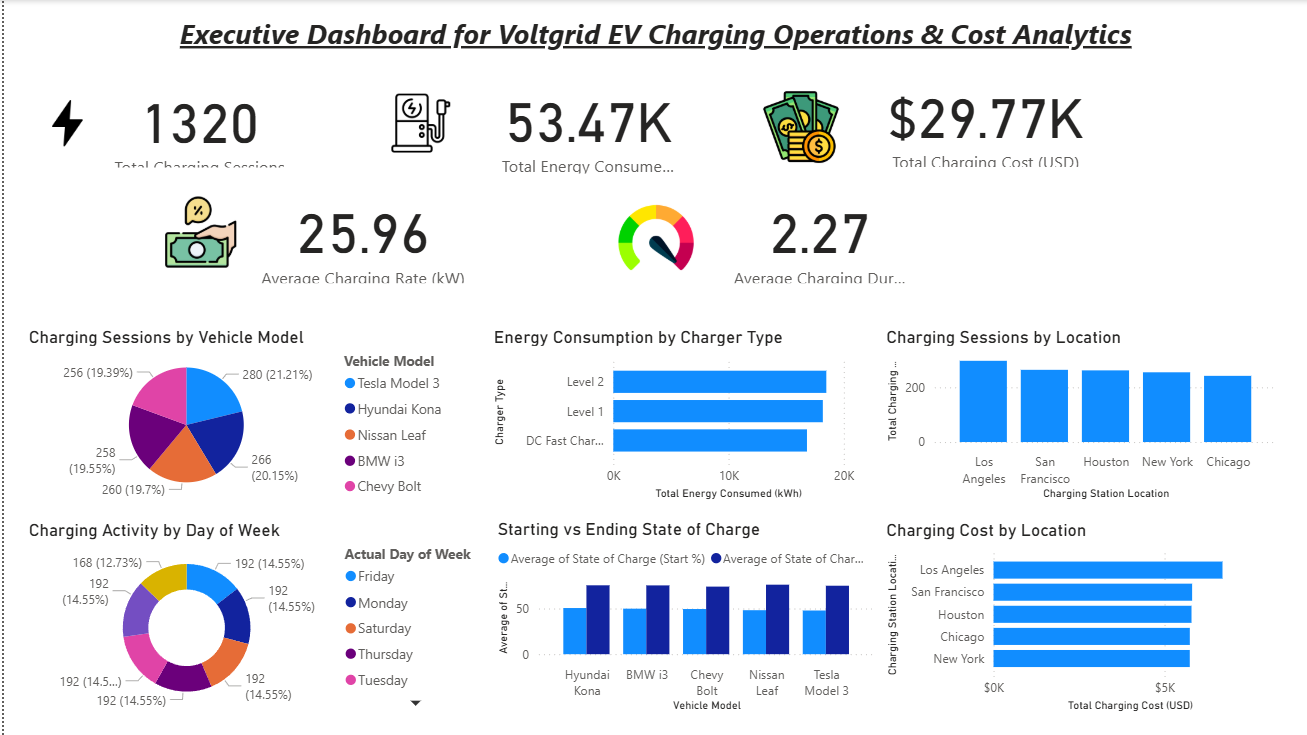

The dashboard page shown, as its layout file describes it:
{"tool":"powerbi","page":{"name":"Executive Dashboard","canvas":[1280,720],"ordinal":0},"visuals":[{"type":"textbox","box":[9.6,9.6,1255.6,53.5],"z":0},{"type":"card","fields":{"Values":["voltgrid_ev_charging_cleaned.Total Charging Sessions"]},"box":[94.7,81,194.9,87.8],"z":1000},{"type":"card","fields":{"Values":["voltgrid_ev_charging_cleaned.Total Energy Consumed (kWh)"]},"box":[477.5,72.7,186.6,102.9],"z":2000},{"type":"card","fields":{"Values":["voltgrid_ev_charging_cleaned.Total Charging Cost (USD)"]},"box":[859,72.7,204.5,96.1],"z":3000},{"type":"card","fields":{"Values":["voltgrid_ev_charging_cleaned.Average Charging Duration (Hours)"]},"box":[705.3,183.9,185.2,98.8],"z":4000},{"type":"card","fields":{"Values":["voltgrid_ev_charging_cleaned.Average Charging Rate (kW)"]},"box":[245.6,183.9,211.3,98.8],"z":5000},{"type":"pieChart","title":"Charging Sessions by Vehicle Model","fields":{"Category":["voltgrid_ev_charging_cleaned.Vehicle Model"],"Y":["voltgrid_ev_charging_cleaned.Total Charging Sessions"]},"box":[19.2,319.7,424,174.3],"z":6000},{"type":"clusteredBarChart","title":"Energy Consumption by Charger Type","fields":{"Category":["voltgrid_ev_charging_cleaned.Charger Type"],"Y":["voltgrid_ev_charging_cleaned.Total Energy Consumed (kWh)"]},"box":[474.8,319.7,362.3,174.3],"z":7000},{"type":"clusteredColumnChart","title":"Charging Sessions by Location","fields":{"Category":["voltgrid_ev_charging_cleaned.Charging Station Location"],"Y":["voltgrid_ev_charging_cleaned.Total Charging Sessions"]},"box":[859,319.7,392.5,174.3],"z":8000},{"type":"donutChart","title":"Charging Activity by Day of Week","fields":{"Category":["voltgrid_ev_charging_cleaned.Actual Day of Week"],"Y":["voltgrid_ev_charging_cleaned.Total Charging Sessions"]},"box":[19.2,509.1,455.6,192.1],"z":9000},{"type":"clusteredBarChart","title":"Charging Cost by Location","fields":{"Category":["voltgrid_ev_charging_cleaned.Charging Station Location"],"Y":["voltgrid_ev_charging_cleaned.Total Charging Cost (USD)"]},"box":[859,509.1,392.5,192.1],"z":10000},{"type":"clusteredColumnChart","title":"Starting vs Ending State of Charge","fields":{"Category":["voltgrid_ev_charging_cleaned.Vehicle Model"],"Y":["Avg(voltgrid_ev_charging_cleaned.State of Charge (Start %))","Avg(voltgrid_ev_charging_cleaned.State of Charge (End %))"]},"box":[477.5,507.7,378.7,193.5],"z":11000},{"type":"image","box":[19.2,91.9,85.1,57.6],"z":12000},{"type":"image","box":[351.3,86.4,113.9,67.2],"z":13000},{"type":"image","box":[732.8,82.3,94.7,85.1],"z":14000},{"type":"image","box":[152.3,183.9,79.6,86.4],"z":15000},{"type":"image","box":[595.5,190.7,85.1,83.7],"z":16000}]}

Visuals, with their boxes in screenshot pixels (x1, y1, x2, y2), scaled from the page's 1280x720 canvas onto the 1307x735 screenshot:
textbox: <region>10, 10, 1292, 64</region>
card - voltgrid_ev_charging_cleaned.Total Charging Sessions: <region>97, 83, 296, 172</region>
card - voltgrid_ev_charging_cleaned.Total Energy Consumed (kWh): <region>488, 74, 678, 179</region>
card - voltgrid_ev_charging_cleaned.Total Charging Cost (USD): <region>877, 74, 1086, 172</region>
card - voltgrid_ev_charging_cleaned.Average Charging Duration (Hours): <region>720, 188, 909, 289</region>
card - voltgrid_ev_charging_cleaned.Average Charging Rate (kW): <region>251, 188, 467, 289</region>
"Charging Sessions by Vehicle Model" pieChart: <region>20, 326, 453, 504</region>
"Energy Consumption by Charger Type" clusteredBarChart: <region>485, 326, 855, 504</region>
"Charging Sessions by Location" clusteredColumnChart: <region>877, 326, 1278, 504</region>
"Charging Activity by Day of Week" donutChart: <region>20, 520, 485, 716</region>
"Charging Cost by Location" clusteredBarChart: <region>877, 520, 1278, 716</region>
"Starting vs Ending State of Charge" clusteredColumnChart: <region>488, 518, 874, 716</region>
image: <region>20, 94, 107, 153</region>
image: <region>359, 88, 475, 157</region>
image: <region>748, 84, 845, 171</region>
image: <region>156, 188, 237, 276</region>
image: <region>608, 195, 695, 280</region>
